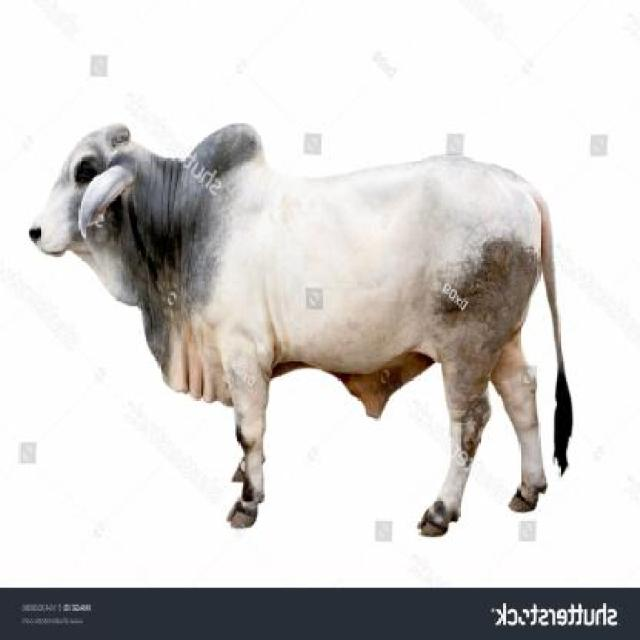Cow: (26, 121, 574, 538)
